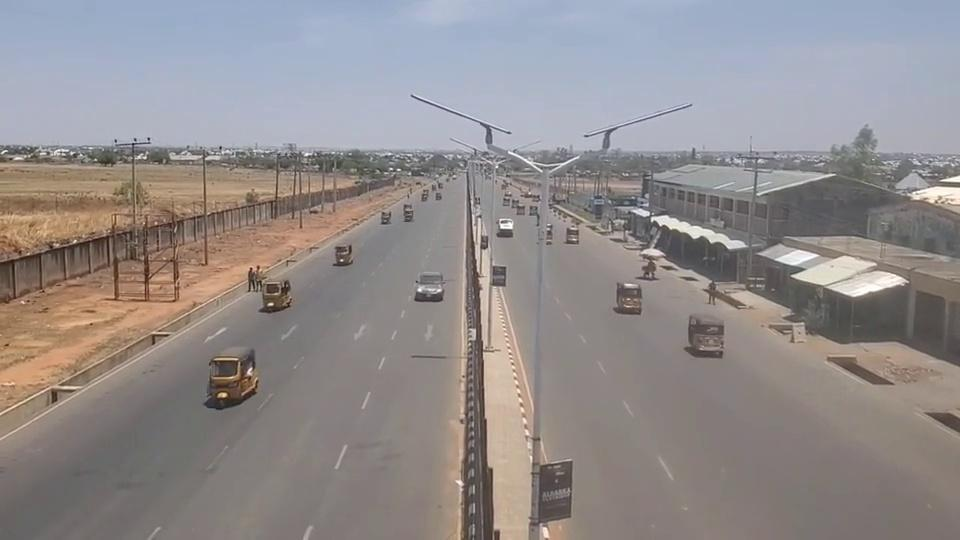keke: (206, 346, 259, 407), (261, 278, 292, 311), (615, 281, 642, 314)
